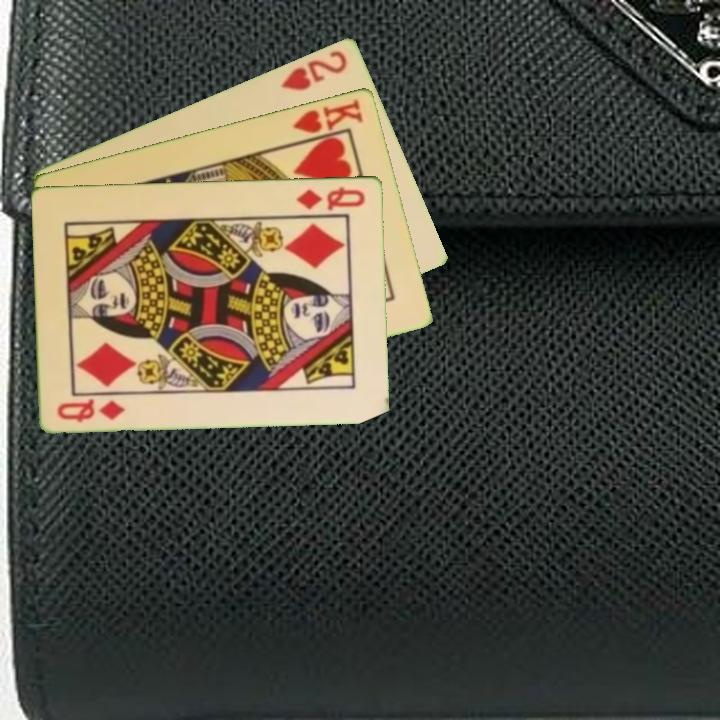2h: (277, 46, 351, 93)
Kh: (288, 95, 367, 146)
Qd: (293, 182, 369, 213), (54, 394, 128, 425)
